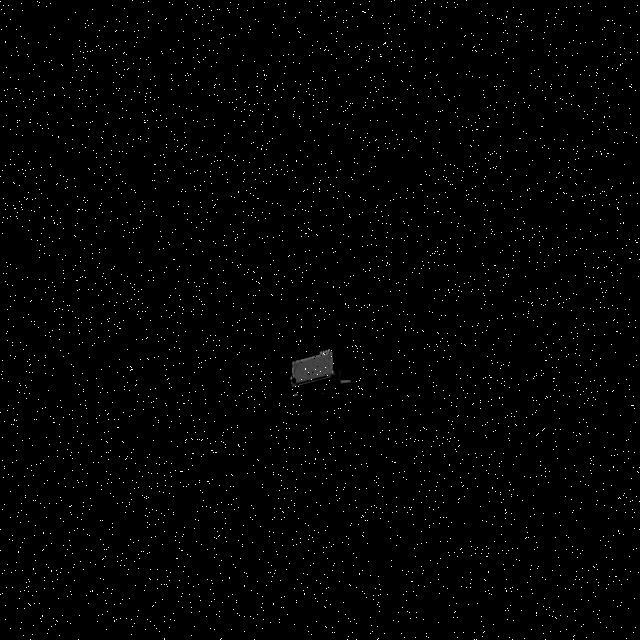medium_debris: (278, 346, 374, 396)
